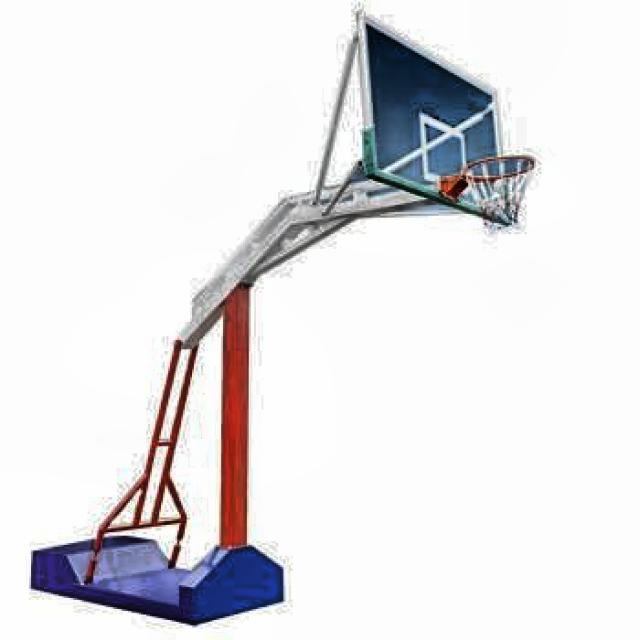rim: (468, 154, 538, 232)
